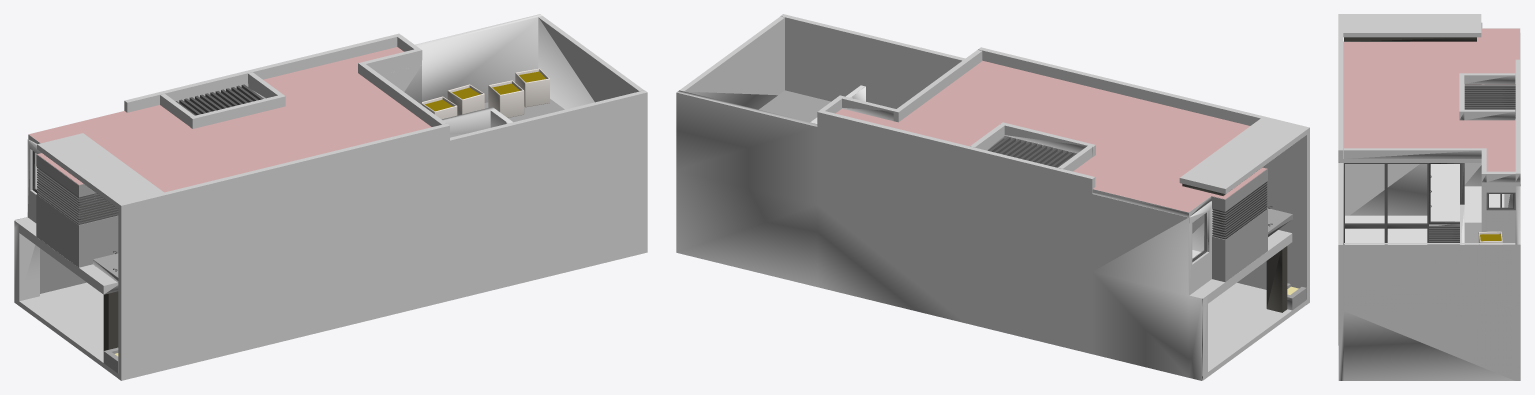
The model's file is 10porciento.gltf.
3 renders of one model, left to right at view 1: azimuth 30°, elevation 25°; view 2: azimuth 150°, elevation 25°; view 3: azimuth 270°, elevation 25°, orthographic. The views are drawn at different scales.
Parts seen in each view (by area): view 1: MuroExtBlanco_1, Impermeabilizante, MuroExtBlanco_1_2.1, Barro_1, AluminioNegro_1, PisoExt_1_6, PisoExt_1_4.3, MuroExtGris, PisoExt_2_9, PisoExt_1, Tierra_1, PisoExt_1_6.1; view 2: MuroExtBlanco_1_2.1, MuroExtBlanco_1, Impermeabilizante, PisoExt_1_6, AluminioNegro_1, PisoExt_1, PisoExt_2_9, PisoExt_1_4, PisoExt_1_6.1, Cubo_3; view 3: MuroExtBlanco_1, Impermeabilizante, PisoInt_1, MuroInt_1_21, AluminioNegro_1, MuroExtBlanco_1_2.1, MuroExtNegro_1_2, Cubo_5, MuroInt_1_73, PisoExt_1, Cubo_6, Barro_1.
Part boxes in pixels (x1,y1,x2,y2): MuroExtBlanco_1: [14, 16, 647, 380]; Impermeabilizante: [29, 47, 431, 192]; MuroExtBlanco_1_2.1: [15, 14, 542, 220]; Barro_1: [422, 68, 549, 119]; AluminioNegro_1: [32, 151, 118, 271]; PisoExt_1_6: [36, 194, 78, 267]; PisoExt_1_4.3: [79, 215, 118, 267]; MuroExtGris: [40, 248, 118, 293]; PisoExt_2_9: [103, 291, 118, 350]; PisoExt_1: [93, 99, 564, 277]; Tierra_1: [425, 71, 545, 111]; PisoExt_1_6.1: [36, 154, 78, 197]; MuroExtBlanco_1_2.1: [676, 90, 1201, 380]; MuroExtBlanco_1: [679, 14, 1309, 380]; Impermeabilizante: [835, 60, 1266, 212]; PisoExt_1_6: [1225, 208, 1267, 281]; AluminioNegro_1: [1192, 181, 1272, 262]; PisoExt_1: [759, 90, 1292, 231]; PisoExt_2_9: [1266, 246, 1287, 312]; PisoExt_1_4: [1212, 236, 1225, 281]; PisoExt_1_6.1: [1225, 169, 1267, 211]; Cubo_3: [1092, 189, 1188, 217]; MuroExtBlanco_1: [1338, 14, 1520, 380]; Impermeabilizante: [1343, 23, 1519, 171]; PisoInt_1: [1345, 164, 1504, 244]; MuroInt_1_21: [1345, 164, 1427, 215]; AluminioNegro_1: [1344, 163, 1515, 244]; MuroExtBlanco_1_2.1: [1515, 33, 1520, 244]; MuroExtNegro_1_2: [1344, 37, 1476, 41]; Cubo_5: [1339, 159, 1481, 162]; MuroInt_1_73: [1464, 163, 1481, 186]; PisoExt_1: [1464, 222, 1481, 244]; Cubo_6: [1482, 182, 1519, 186]; Barro_1: [1478, 231, 1502, 244].
Size of what is drawn, in the model's own units: 23540 by 7481 by 8294.
